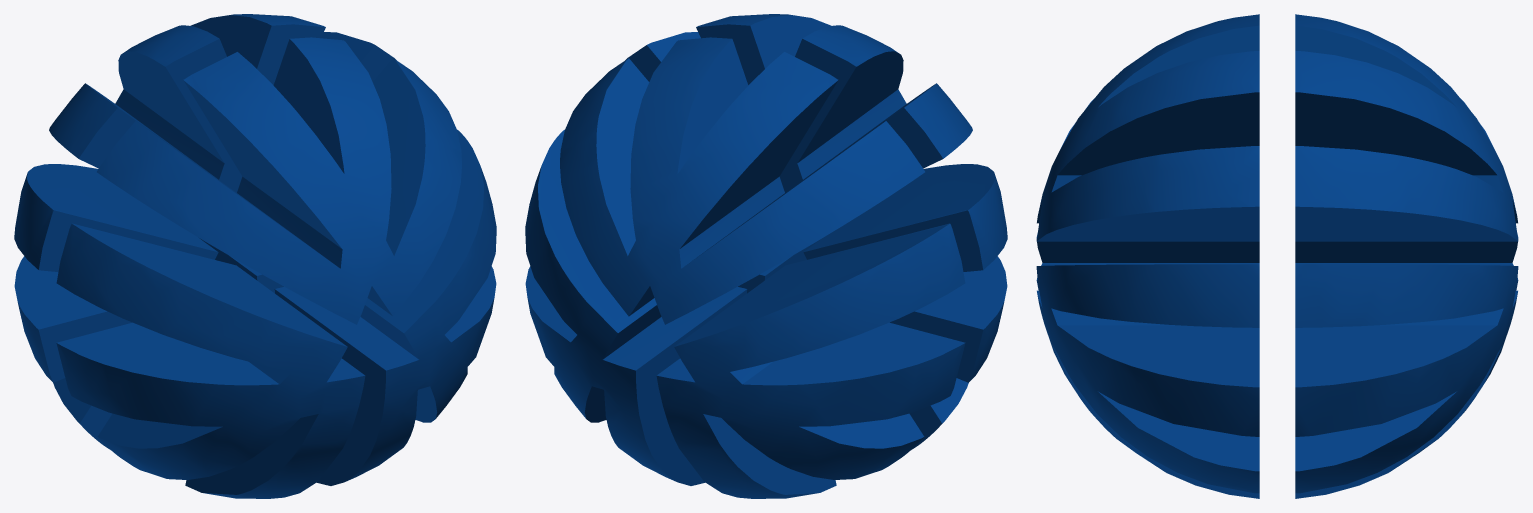
Rendered from Frenchfaso Lod_1.FBX.
3 views of the same model, side by side, from view 1: azimuth 30°, elevation 25°; view 2: azimuth 150°, elevation 25°; view 3: azimuth 270°, elevation 25° (orthographic).
Visible parts, largest first — view 1: GeoSphere01; view 2: GeoSphere01; view 3: GeoSphere01.
Part boxes in pixels (x1,y1,x2,y2): GeoSphere01: (14,14,496,498); GeoSphere01: (525,14,1007,498); GeoSphere01: (1036,14,1518,498).
Size of the model in its own units: 40.33 by 40.39 by 40.43.
